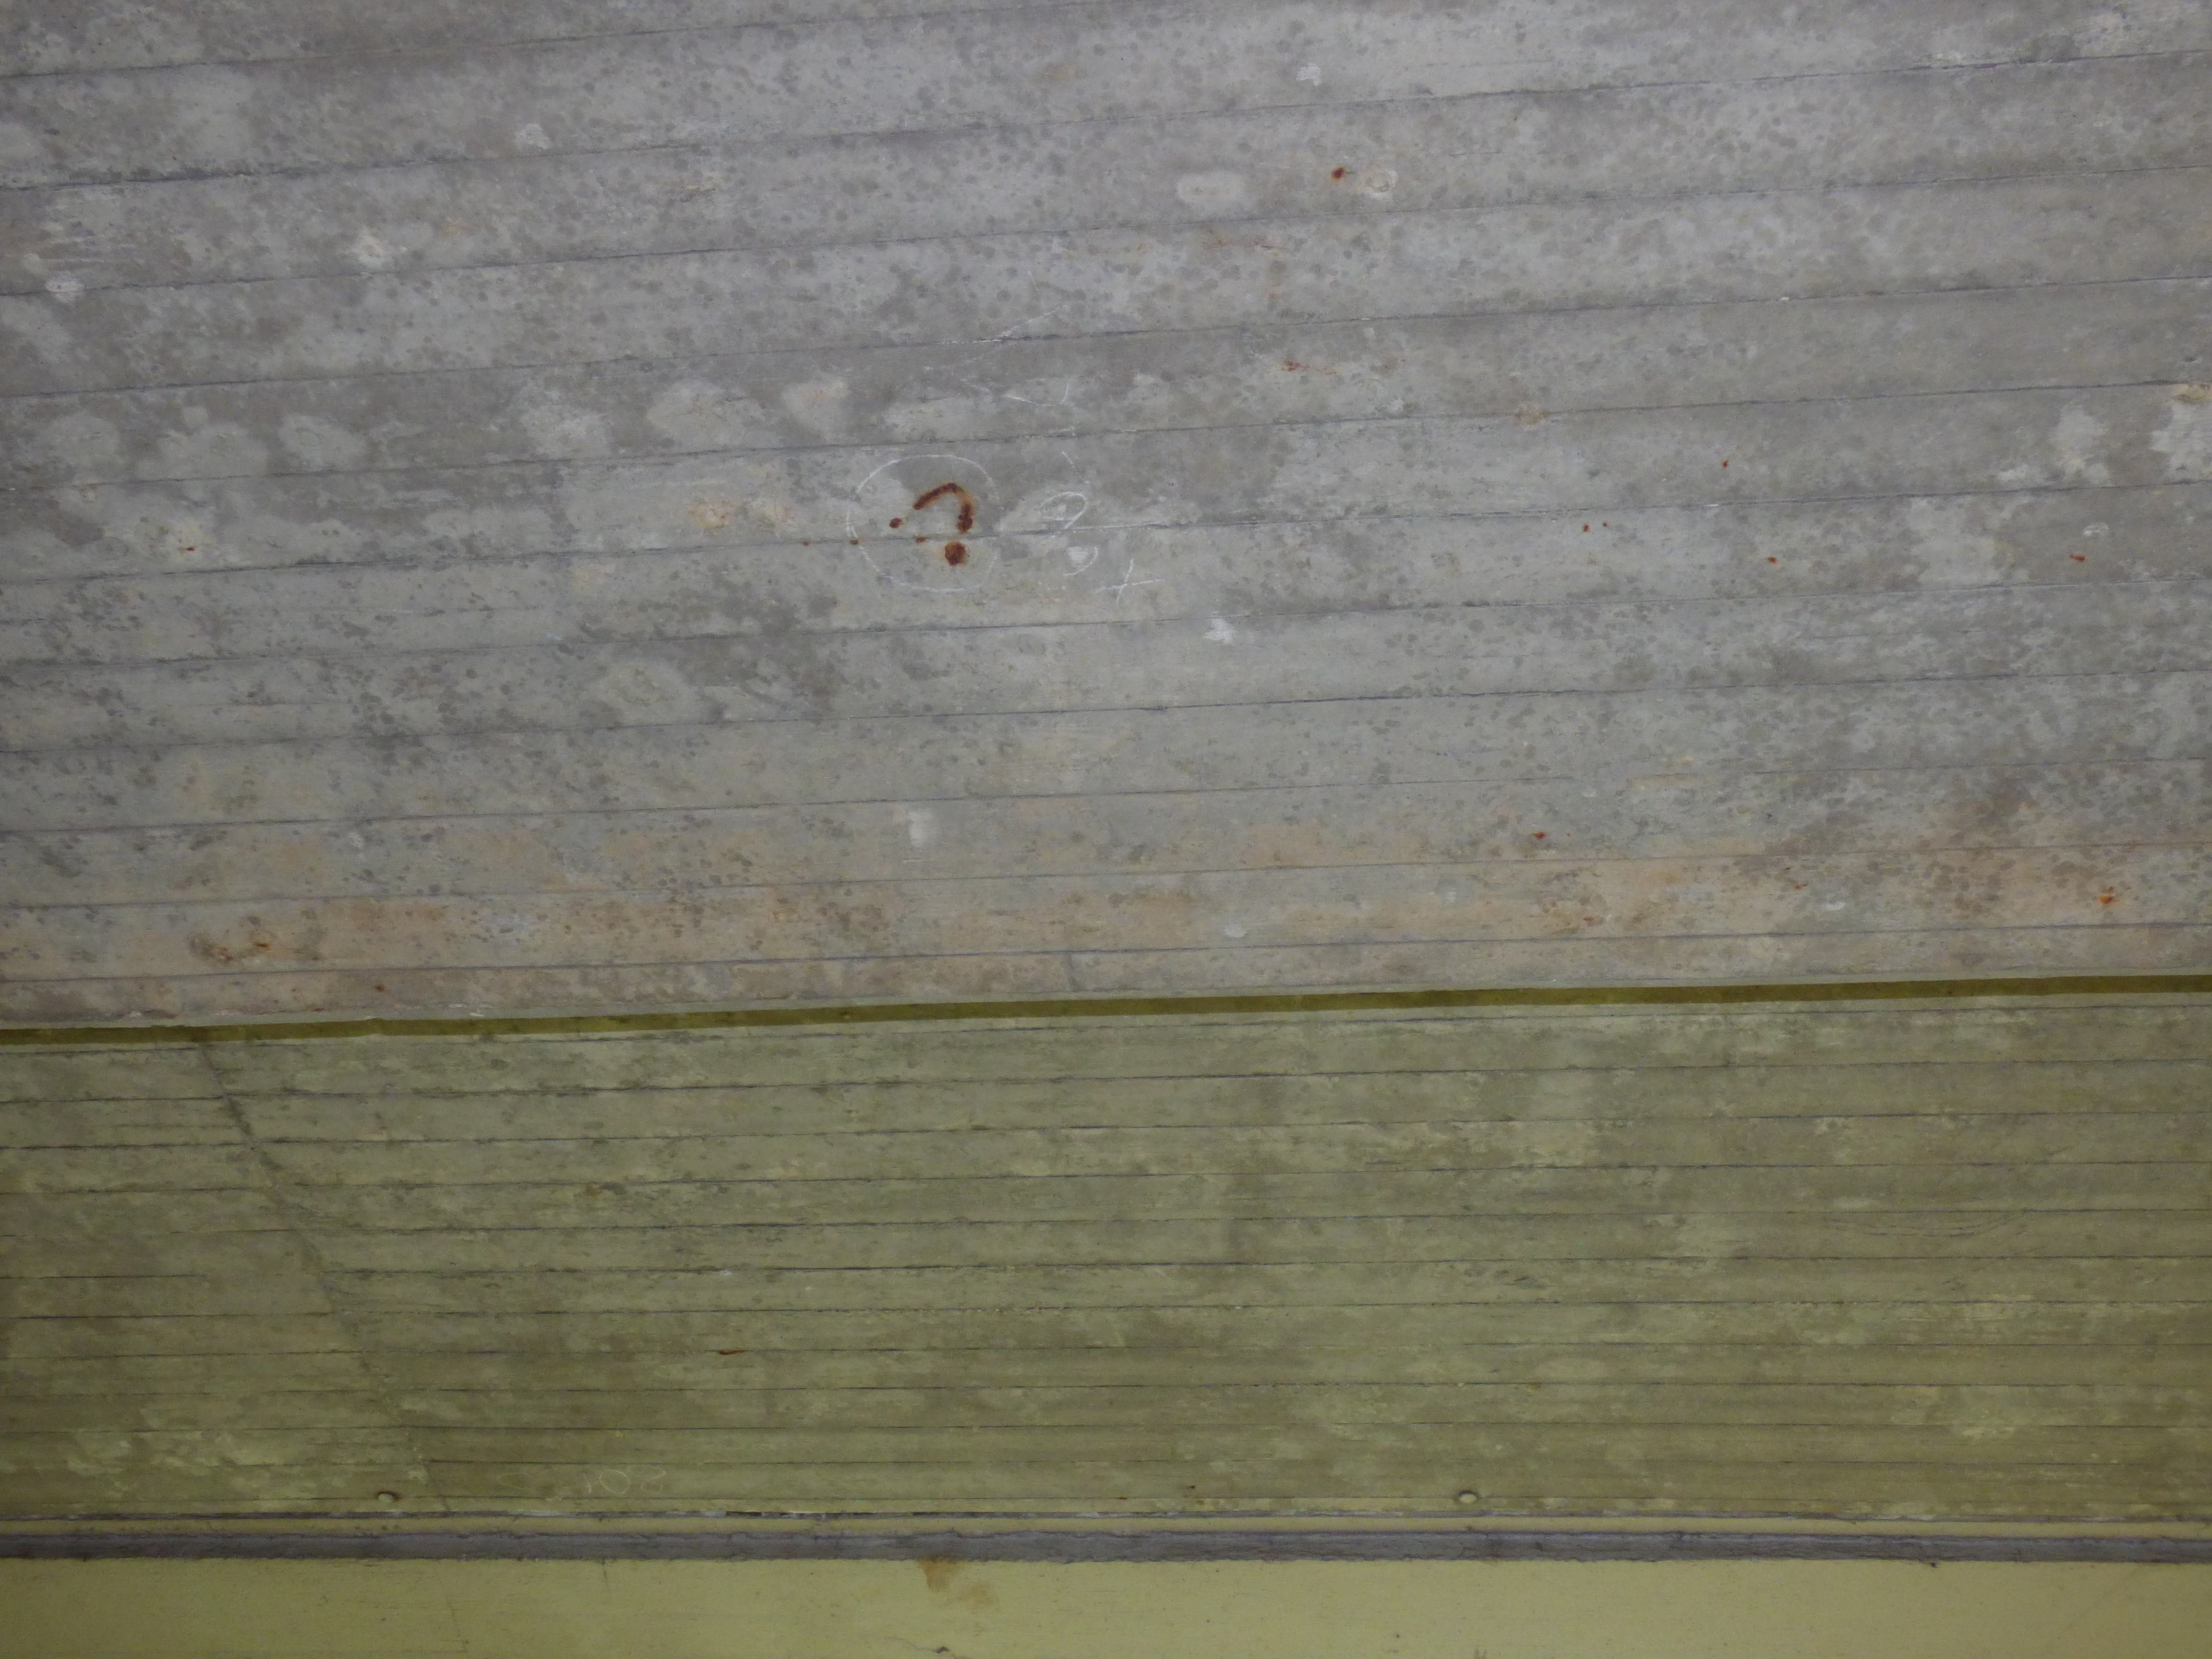Corrosion: (888, 483, 974, 566)
